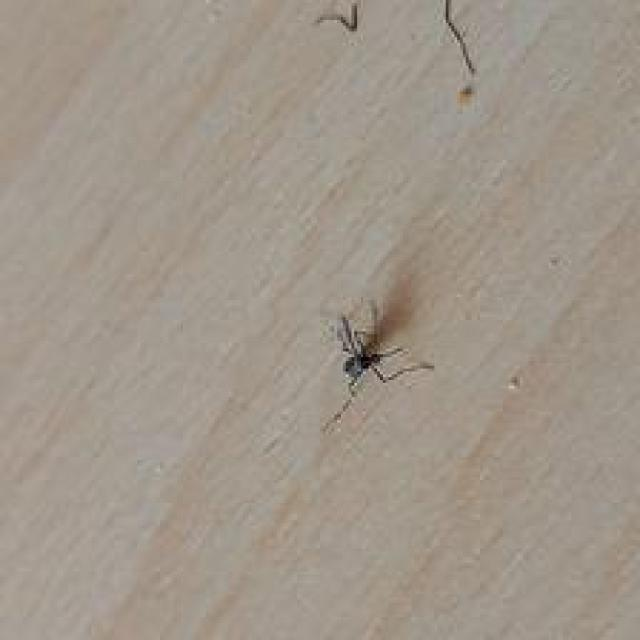Aedes albopictus: (320, 296, 434, 433)
